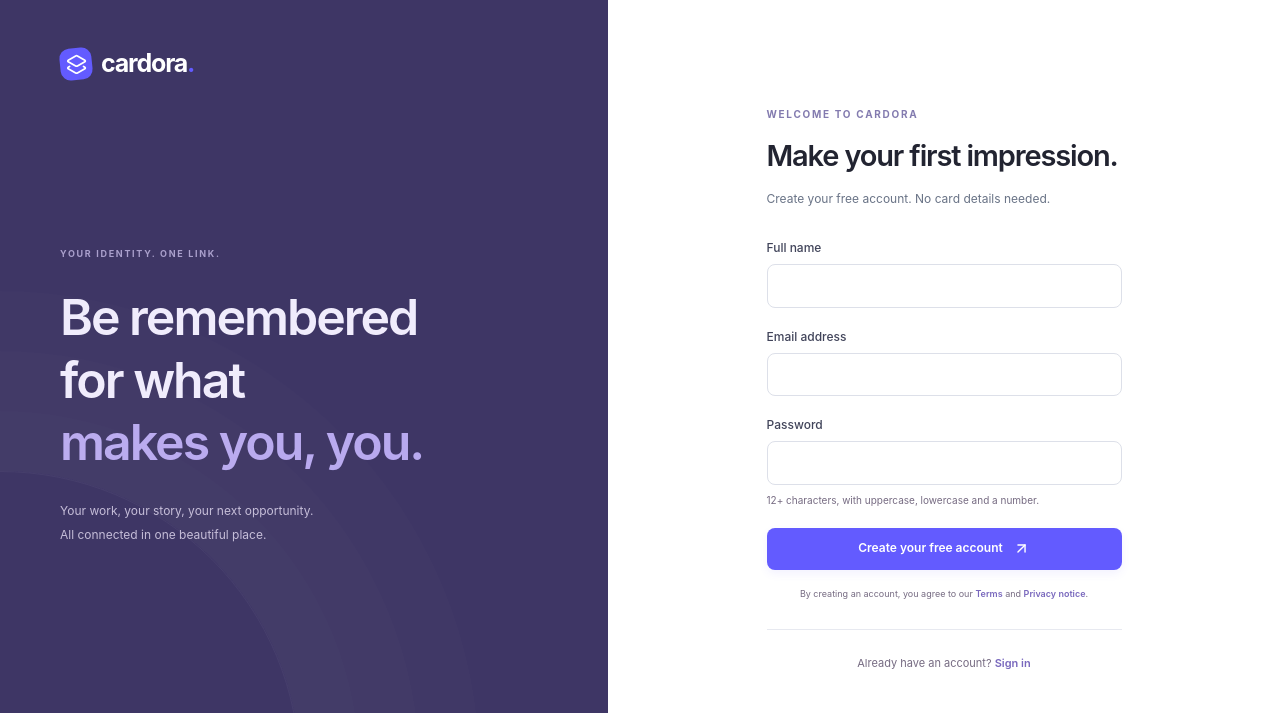
it: Authentication › validates registration before sending an API request
Click the button "Create your free account": (944, 549) [766, 528, 1122, 570]
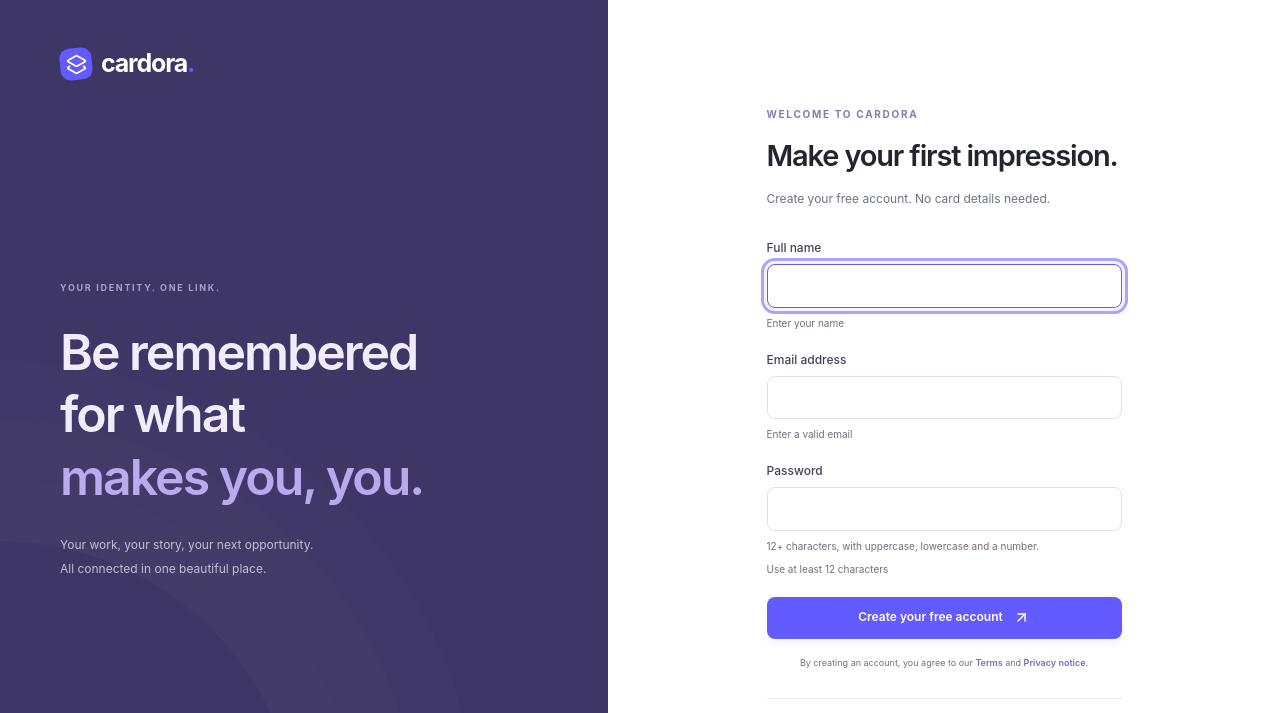
Check: the text "Enter your name" is shown, box [766, 317, 844, 329]
